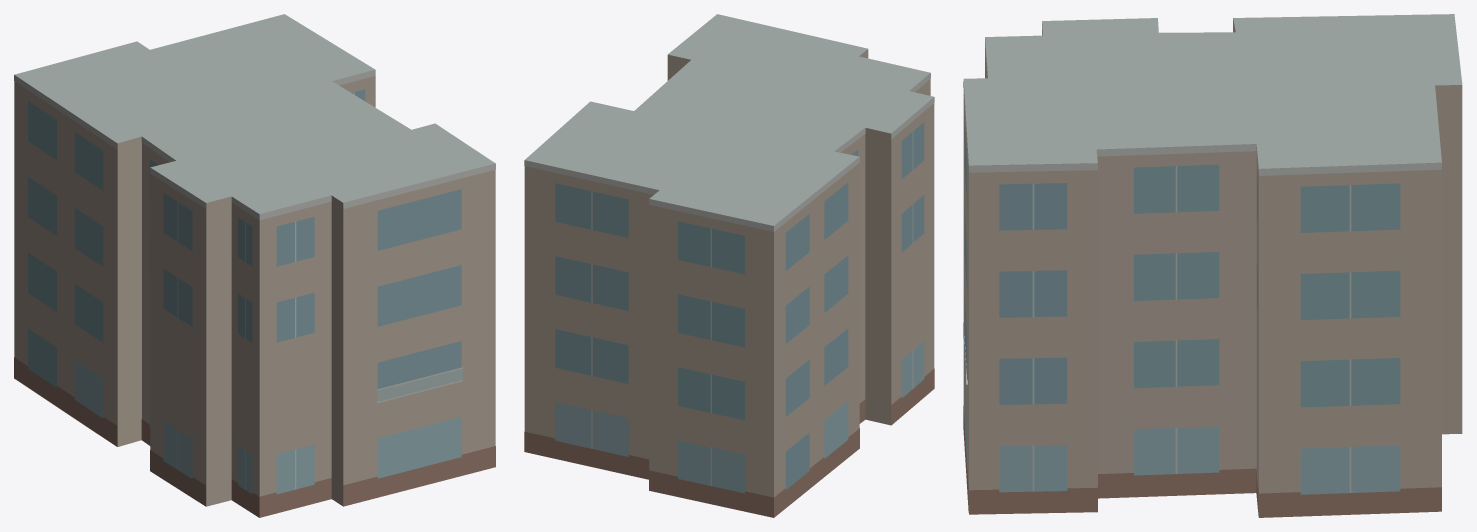
Rendered from survey-upis-32713117.glb.
3 renders of one model, left to right at view 1: azimuth 30°, elevation 25°; view 2: azimuth 150°, elevation 25°; view 3: azimuth 270°, elevation 25°, orthographic. The views are drawn at different scales.
Visible parts, largest first — view 1: survey-upis-32713117.tmp; view 2: survey-upis-32713117.tmp; view 3: survey-upis-32713117.tmp.
Part boxes in pixels (bbox=[...]): survey-upis-32713117.tmp: bbox=[14, 14, 495, 517]; survey-upis-32713117.tmp: bbox=[524, 14, 934, 517]; survey-upis-32713117.tmp: bbox=[963, 14, 1462, 517].
Bounding box in the file's own units: 11.43 × 12 × 15.56.
